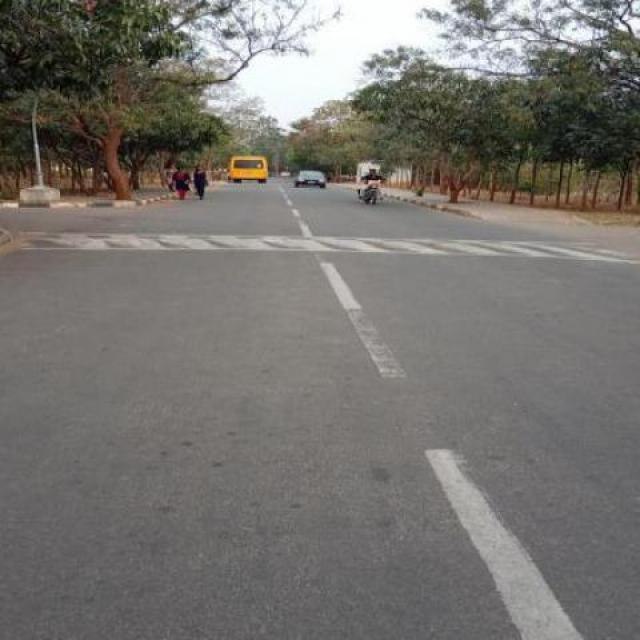Speed Bump: (8, 232, 639, 267)
